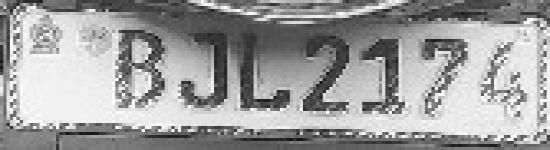1: (355, 32, 412, 118)
2: (294, 31, 356, 118)
4: (477, 33, 533, 124)
7: (412, 32, 476, 122)
B: (109, 25, 174, 117)
J: (175, 24, 234, 112)
L: (236, 28, 294, 117)
